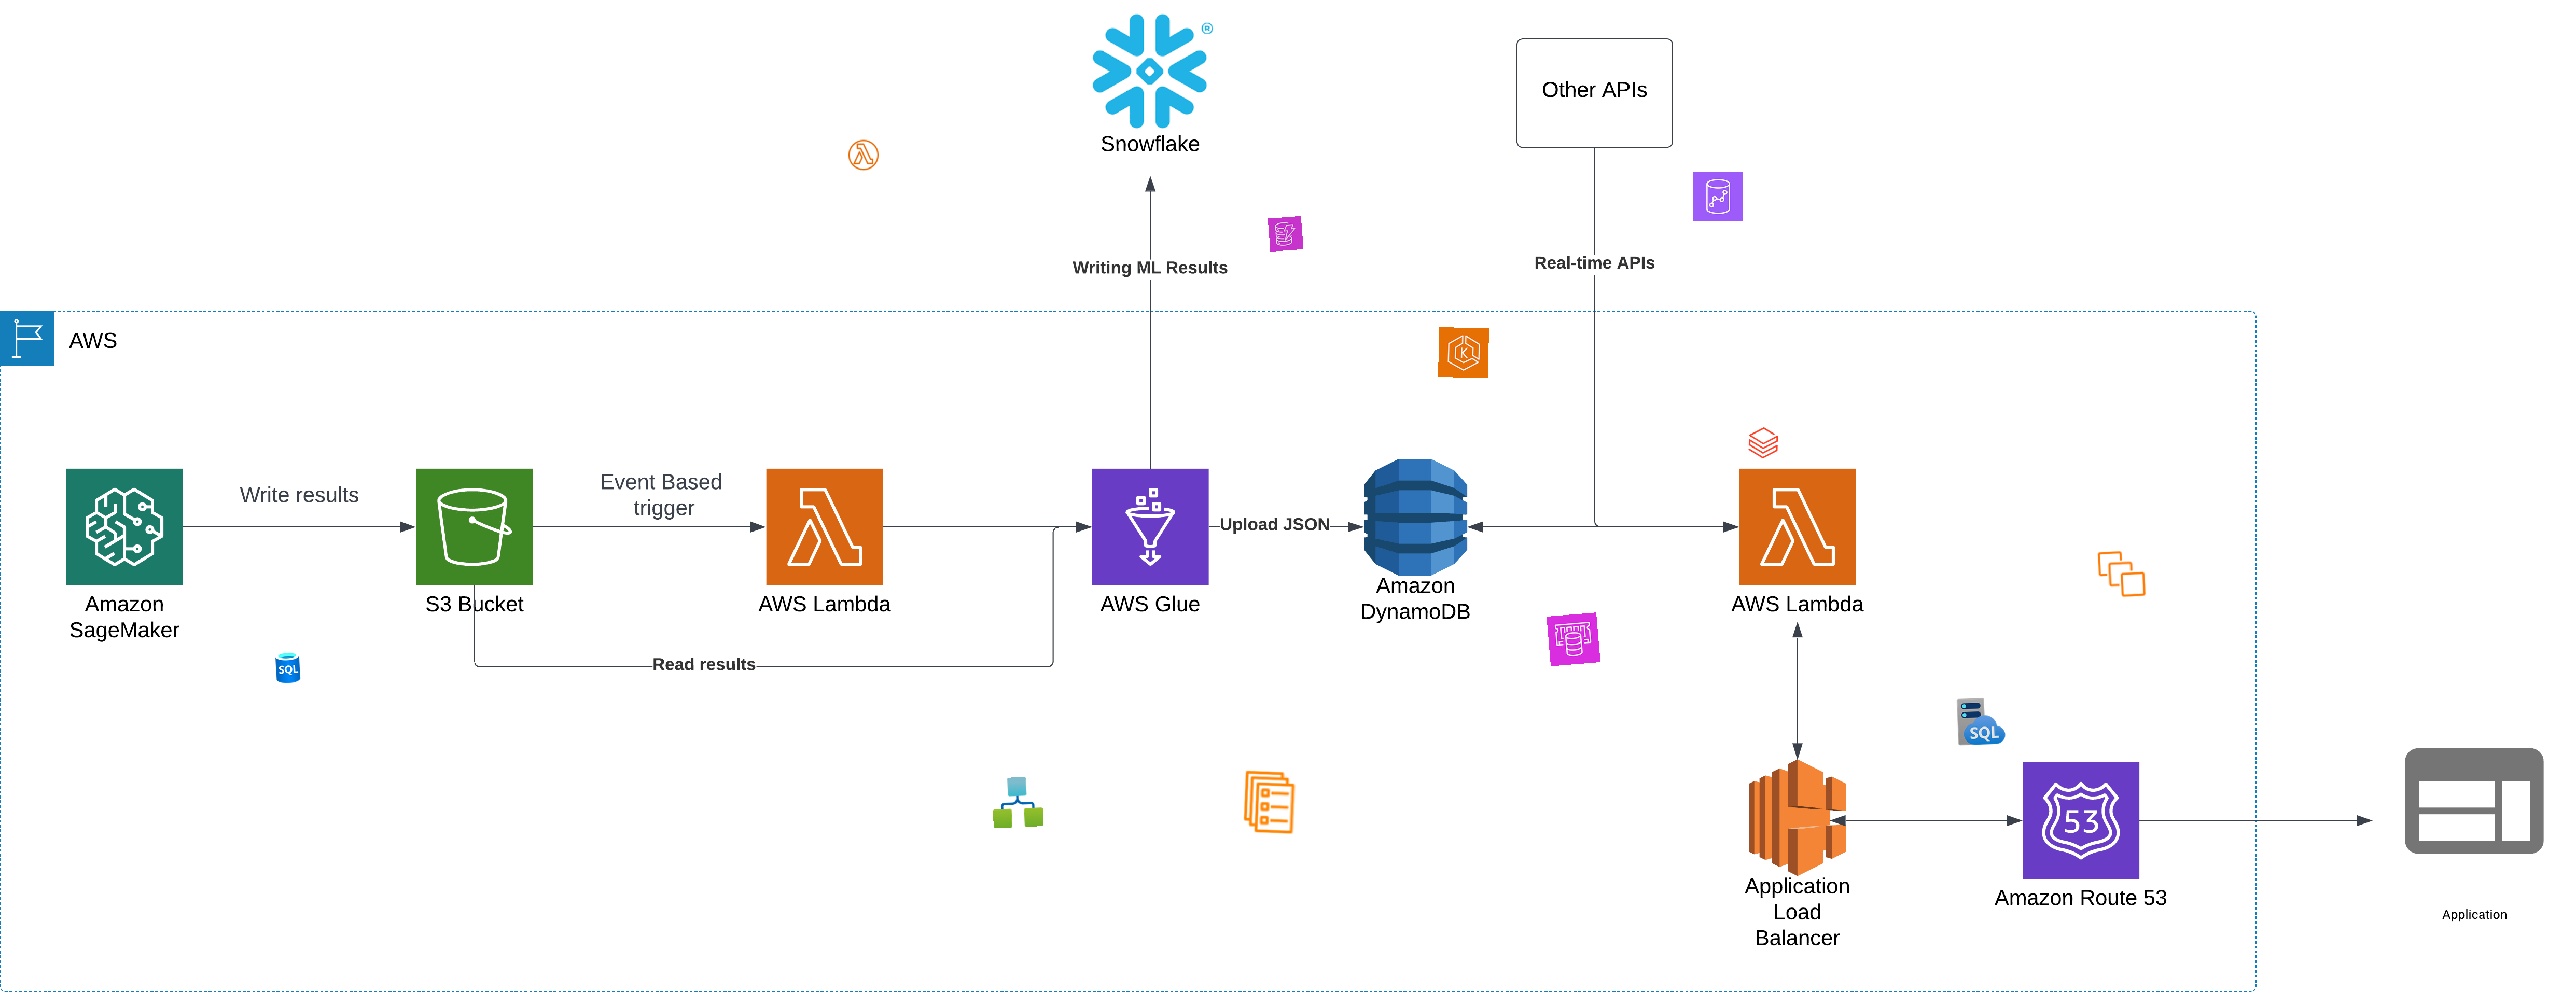aws_amazon_dynamodb: (1268, 215, 1304, 251)
aws_amazon_elastic_kubernetes_service: (1438, 327, 1490, 378)
aws_amazon_elasticache: (1546, 613, 1600, 667)
aws_amazon_redshift: (1692, 171, 1743, 222)
aws_ec2_instances: (2095, 547, 2149, 601)
aws_elastic_container_service_service: (1235, 767, 1304, 838)
aws_lambda_lambda_function: (846, 138, 881, 172)
azure_databricks: (1746, 425, 1781, 460)
azure_logic_apps: (992, 777, 1043, 828)
azure_sql_database: (269, 650, 306, 685)
azure_sql_managed_instance: (1955, 695, 2008, 747)
